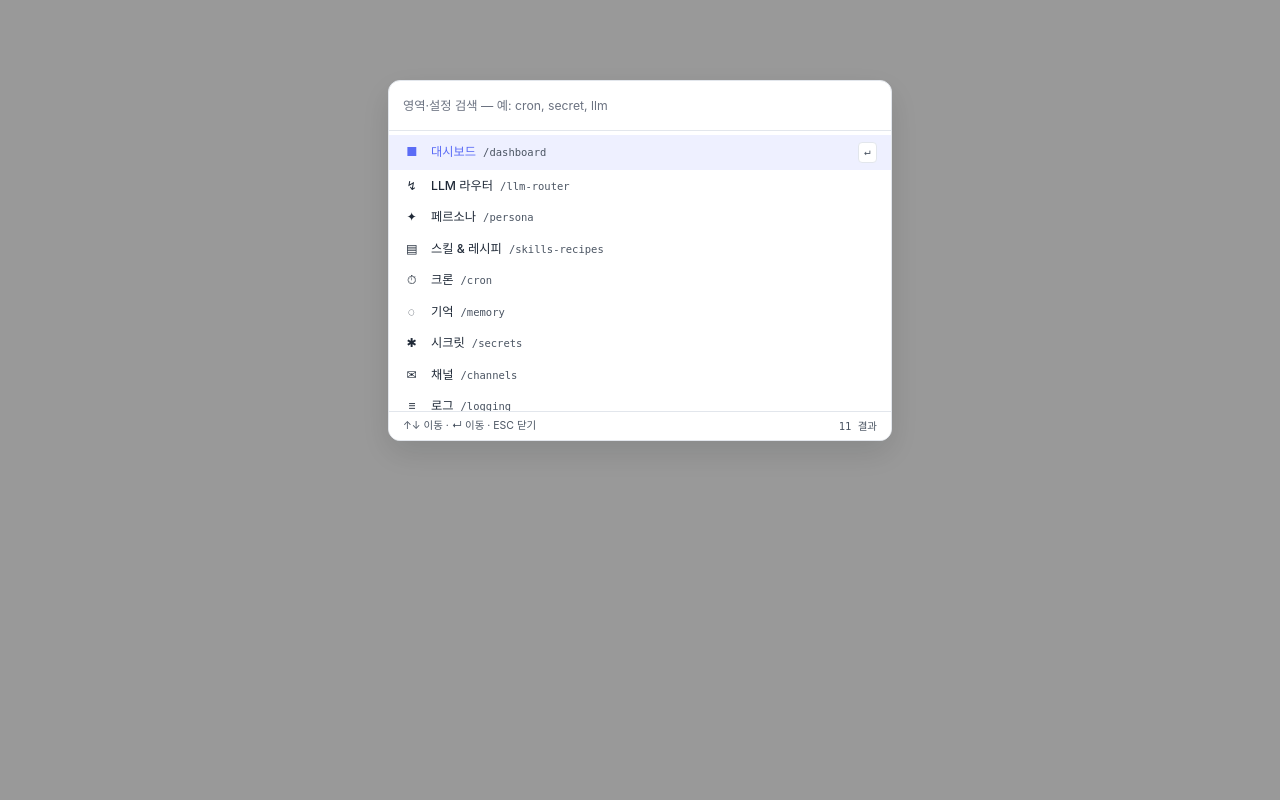
Test: CommandPalette › 매칭 0건이면 empty 안내
This screenshot has width=1280, height=800.
Type "zzz-no-match" into the search field with test id "command-palette-input".
click(640, 106); type("zzz-no-match")  # box 403,92 -> 877,120
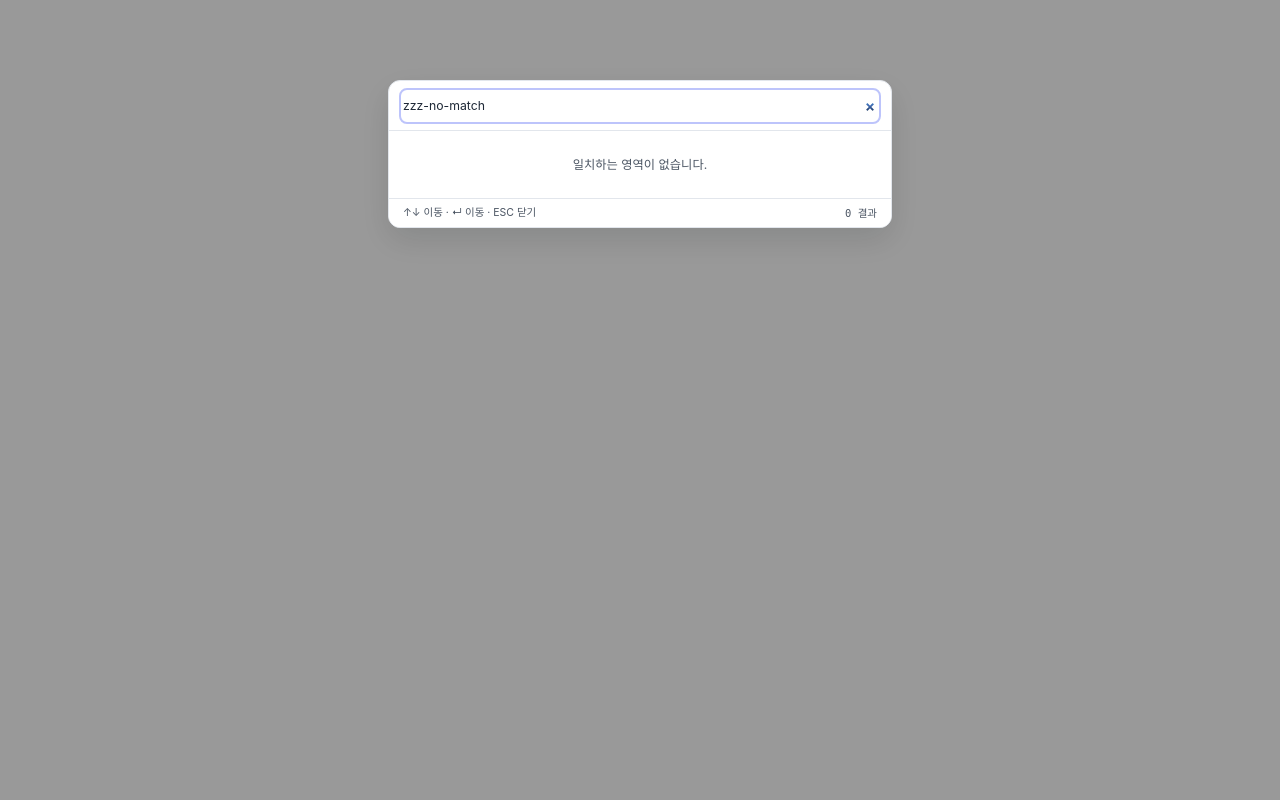
Expected: the option with test id "command-palette-empty" is shown, 573,156 -> 707,172
